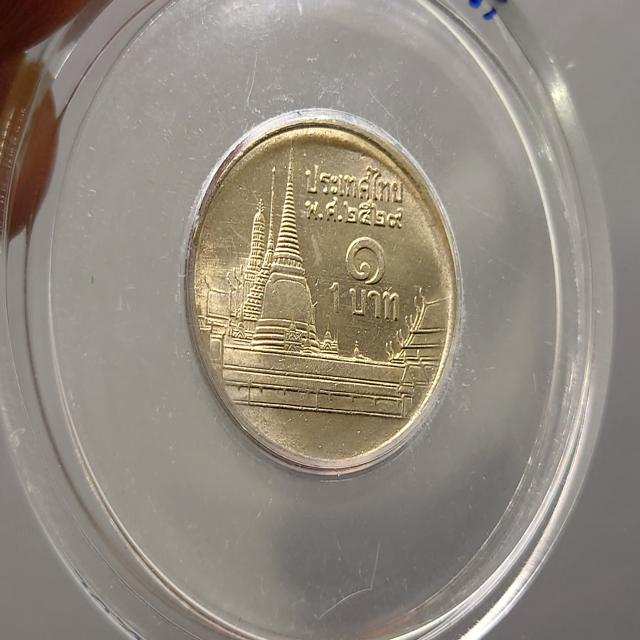1 Bath: (174, 106, 470, 490)
